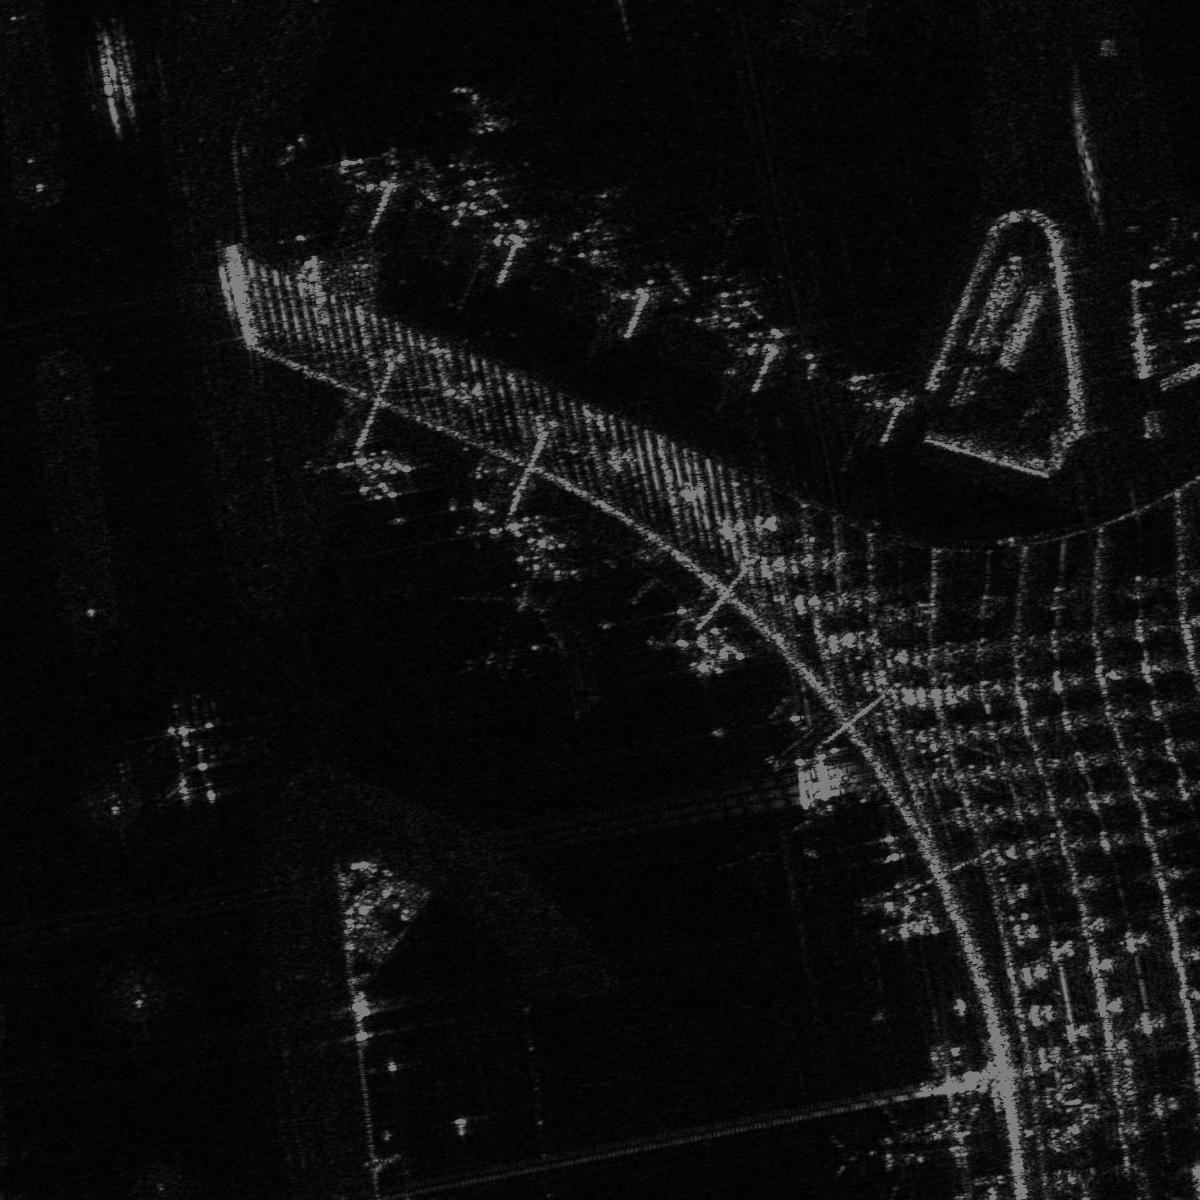Boeing787: (453, 581, 573, 673), (433, 167, 511, 212)
other: (830, 1091, 942, 1199), (136, 698, 240, 807)
